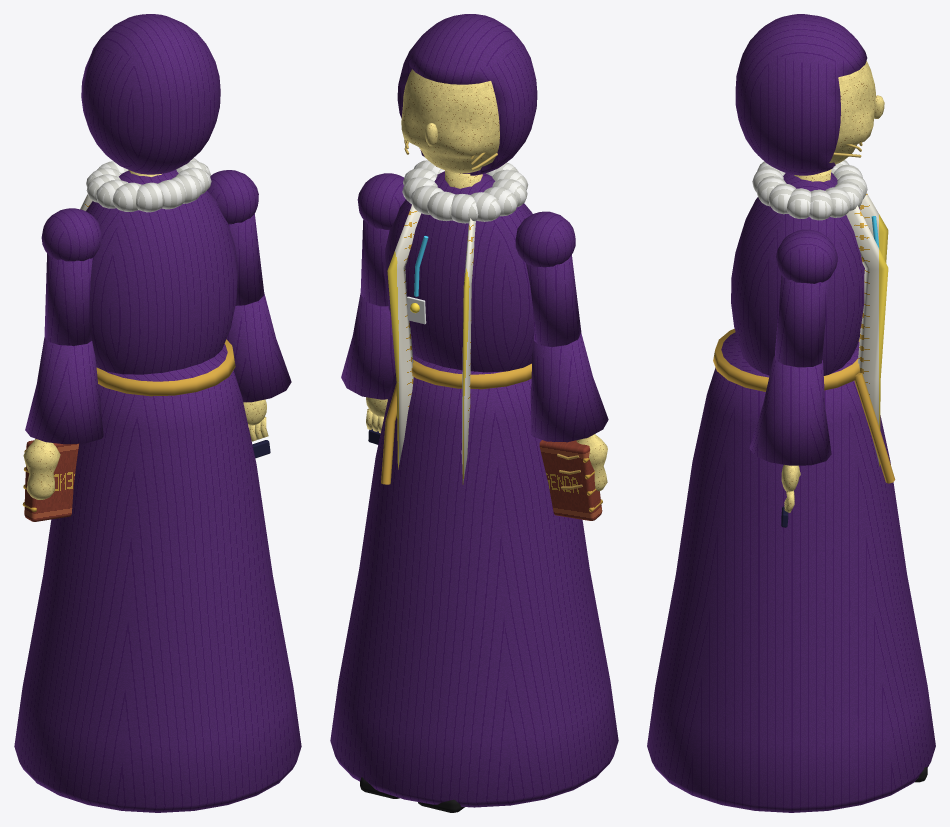
File: c_sister_agenda.glb
3 renders of one model, left to right at view 1: azimuth 30°, elevation 25°; view 2: azimuth 150°, elevation 25°; view 3: azimuth 270°, elevation 25°, orthographic.
Visible parts, largest first — view 1: part_body, part_spine, part_head, part_armL, part_foreL, part_foreR, part_arm, part_handL, part_handR; view 2: part_body, part_spine, part_head, part_armL, part_foreL, part_handL, part_foreR, part_arm, part_handR; view 3: part_body, part_spine, part_head, part_arm, part_foreR, part_handR.
Boxes of the visible parts, box(x1,y1,x2,y2) form: part_body: box(14, 339, 301, 812); part_spine: box(80, 158, 237, 374); part_head: box(81, 14, 220, 174); part_armL: box(41, 208, 101, 345); part_foreL: box(25, 337, 103, 444); part_foreR: box(226, 294, 291, 402); part_arm: box(207, 170, 264, 305); part_handL: box(22, 438, 78, 521); part_handR: box(243, 399, 270, 458); part_body: box(330, 355, 618, 812); part_spine: box(384, 160, 534, 484); part_head: box(397, 14, 537, 175); part_armL: box(515, 211, 581, 347); part_foreL: box(530, 333, 608, 442); part_handL: box(539, 434, 607, 520); part_foreR: box(341, 293, 395, 399); part_arm: box(357, 173, 405, 306); part_handR: box(366, 397, 387, 444); part_body: box(647, 328, 935, 812); part_spine: box(731, 160, 888, 466); part_head: box(735, 14, 884, 175); part_arm: box(775, 229, 837, 367); part_foreR: box(749, 356, 831, 465); part_handR: box(781, 464, 800, 527).
Bounding box in the file's own units: 0.7303 × 1.98 × 0.7.
20 materials, 5 textured.
